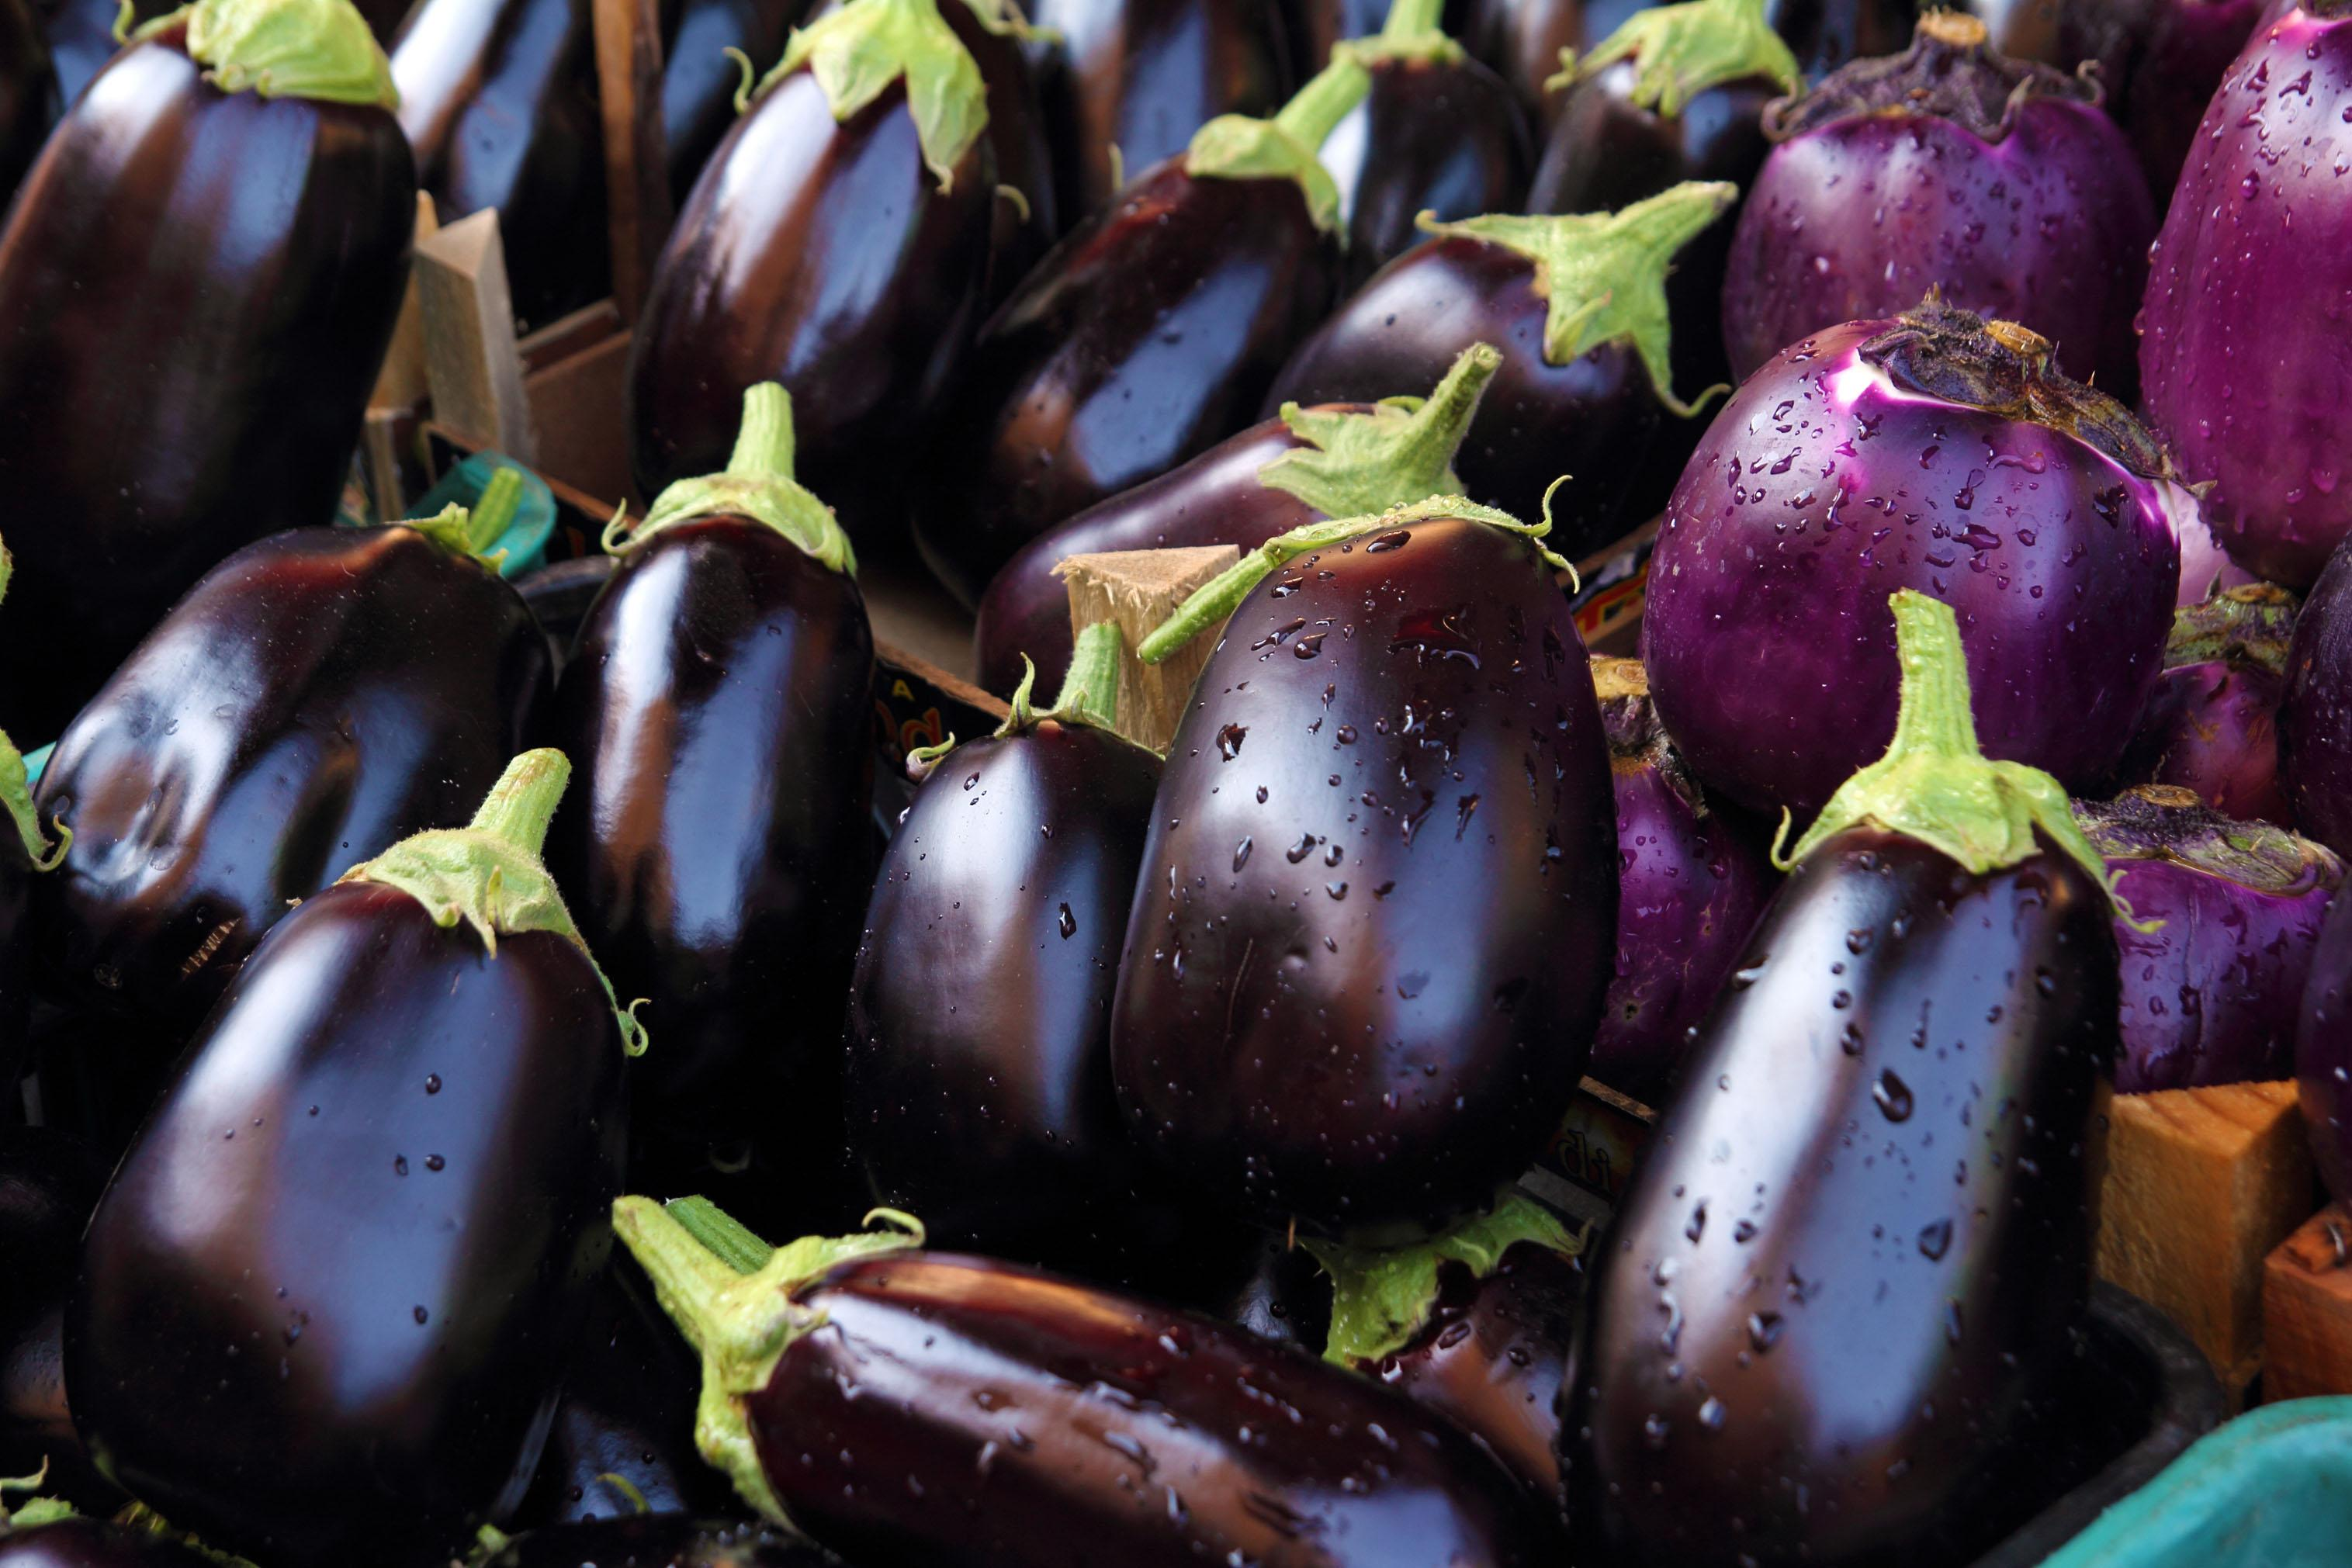eggplant: (1559, 586, 2123, 1565), (61, 744, 639, 1563), (609, 1188, 1551, 1566), (0, 0, 418, 751), (1638, 297, 2182, 837), (550, 378, 880, 1211), (625, 0, 1068, 529), (840, 607, 1167, 1255), (1258, 175, 1738, 563), (1722, 9, 2158, 401), (2133, 2, 2350, 590)
